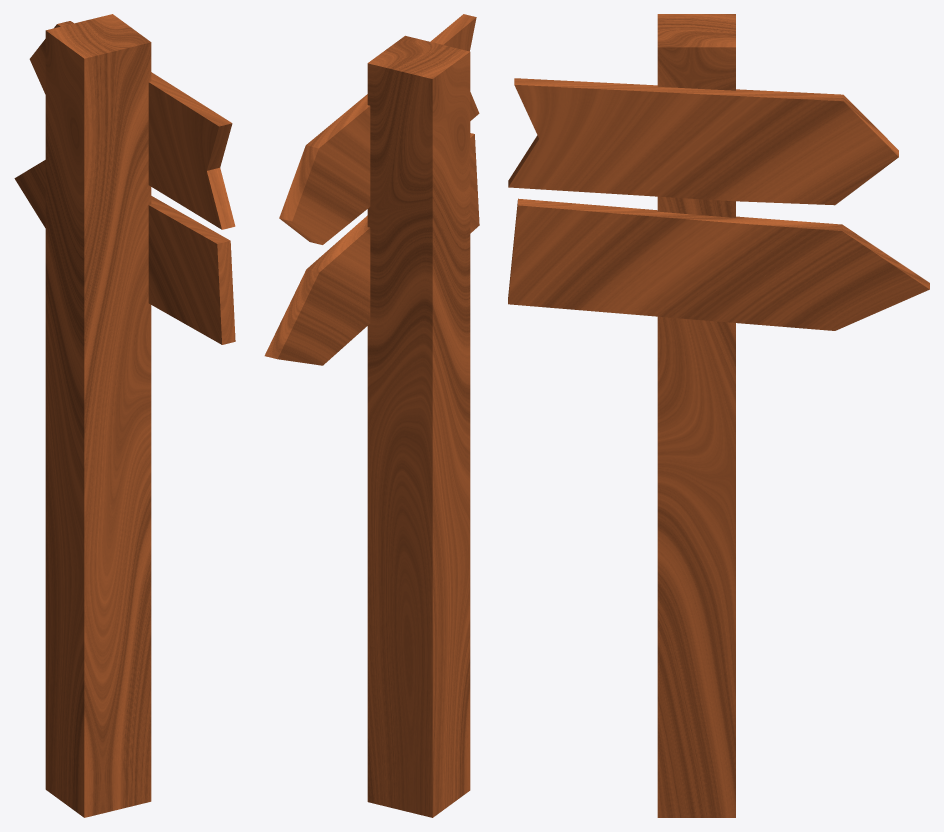
File: Sign4.fbx
3 views of the same model, side by side, from view 1: azimuth 30°, elevation 25°; view 2: azimuth 150°, elevation 25°; view 3: azimuth 270°, elevation 25° (orthographic). The views are drawn at different scales.
Visible parts, largest first — view 1: Cube.010; view 2: Cube.010; view 3: Cube.010.
Part boxes in pixels (left/top/right/bottom): Cube.010: left=14, top=14, right=235, bottom=817; Cube.010: left=264, top=14, right=479, bottom=817; Cube.010: left=508, top=14, right=929, bottom=817.
Size of the model in its own units: 20.8 by 195 by 96.49.
Materials: 1 (1 with a texture image).
